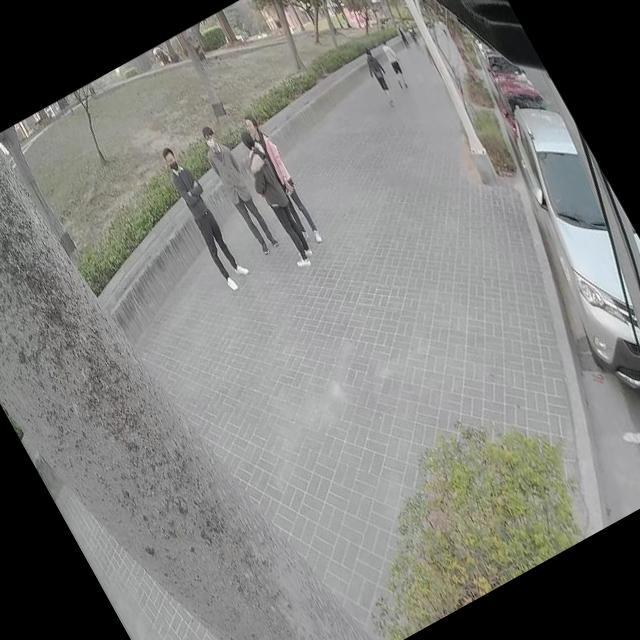person: (221, 118, 329, 278), (152, 140, 250, 292), (236, 106, 330, 247), (194, 122, 286, 260), (353, 42, 402, 110), (376, 38, 414, 93)
